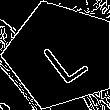L_NW: (32, 26, 90, 84)
